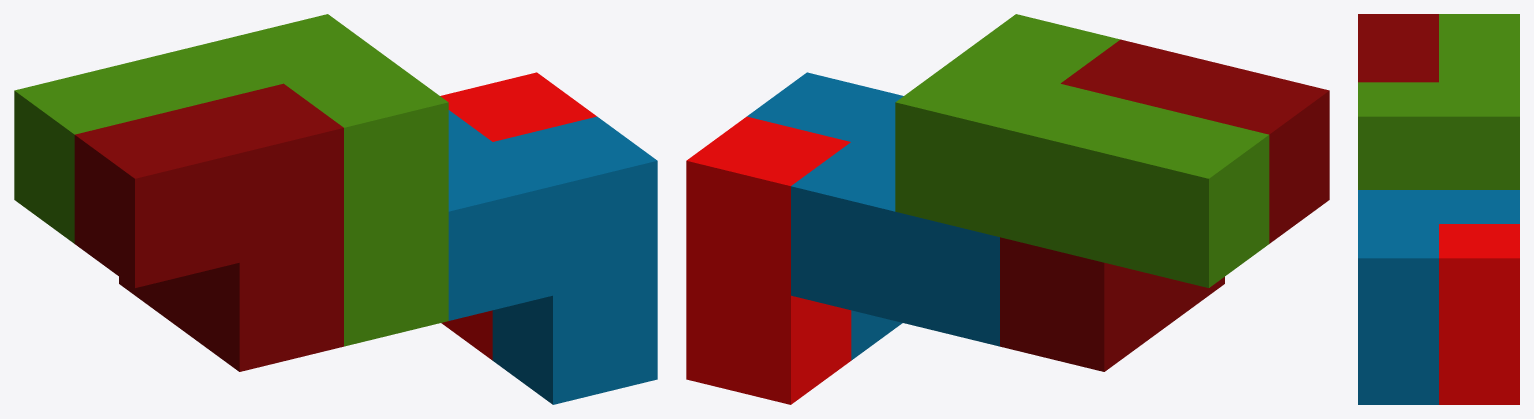
The picture shows the model from 3 angles, left to right: view 1: azimuth 30°, elevation 25°; view 2: azimuth 150°, elevation 25°; view 3: azimuth 270°, elevation 25°; orthographic projection. The views are drawn at different scales.
Visible parts, largest first — view 1: mergedBlocks(Clone); view 2: mergedBlocks(Clone); view 3: mergedBlocks(Clone).
Boxes of the visible parts, box(x1,y1,x2,y2) form: mergedBlocks(Clone): box(14, 14, 657, 404); mergedBlocks(Clone): box(686, 14, 1329, 404); mergedBlocks(Clone): box(1358, 14, 1519, 404).
Bounding box in the file's own units: 5 × 3 × 2.
Materials: 4 (4 with a texture image).
